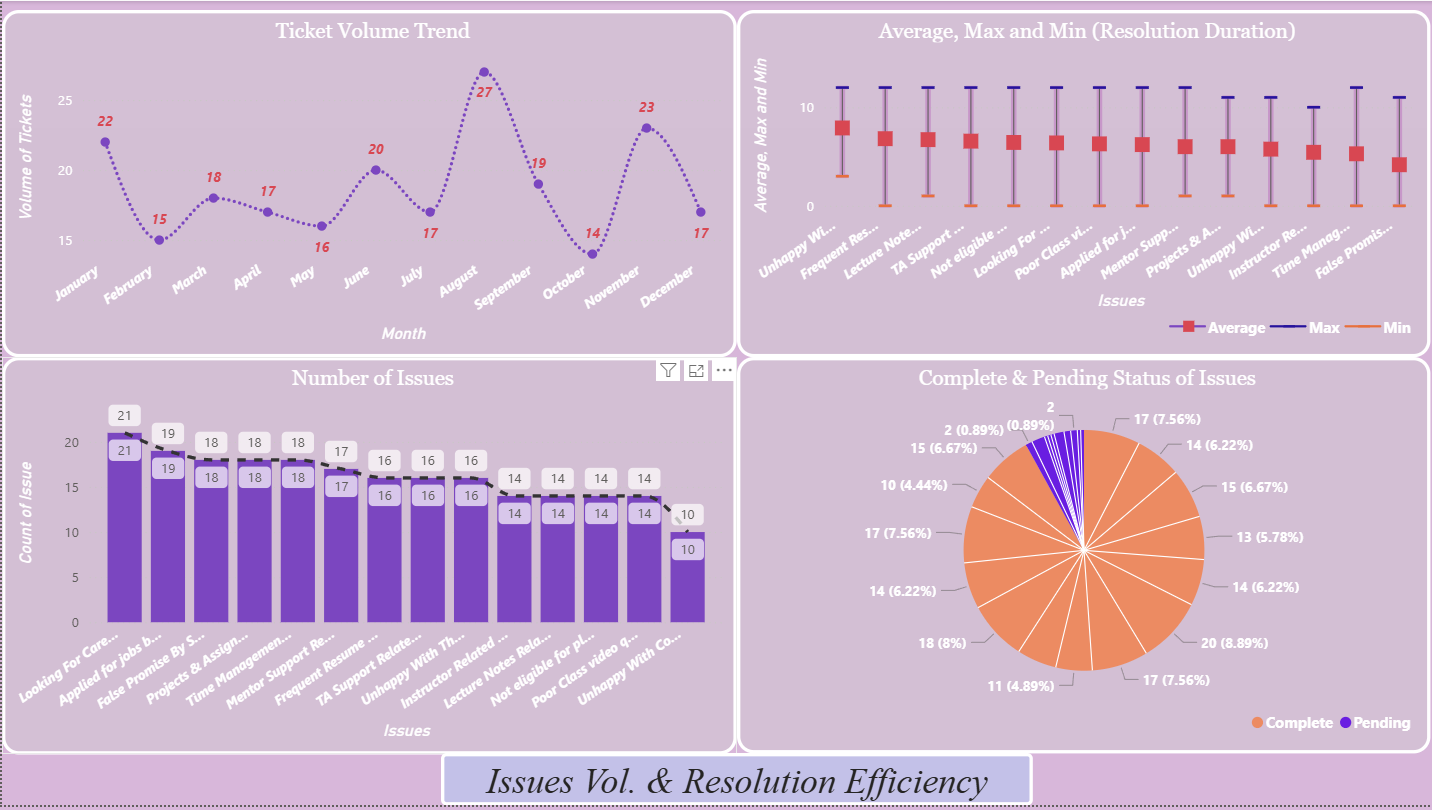

The dashboard page shown, as its layout file describes it:
{"tool":"powerbi","page":{"name":"Issue_Vol_Resolution_Efficiency","canvas":[1280,720],"ordinal":1},"visuals":[{"type":"lineChart","title":"Ticket Volume Trend","fields":{"Y":["CountNonNull(Sheet1.Ticket All Remarks)"],"Category":["Sheet1.Created Date.Variation.Date Hierarchy.Year","Sheet1.Created Date.Variation.Date Hierarchy.Quarter","Sheet1.Created Date.Variation.Date Hierarchy.Month"]},"box":[0,8.1,658.2,310.7],"z":0},{"type":"lineStackedColumnComboChart","title":"Number of Issues","fields":{"Category":["Sheet1.Issue 2 - NPS"],"Y":["CountNonNull(Sheet1.Issue 2 - NPS)"],"Y2":["CountNonNull(Sheet1.Issue 2 - NPS)"]},"box":[0,318.8,658.2,355.5],"z":1000},{"type":"lineClusteredColumnComboChart","title":"Average, Max and Min (Resolution Duration)","fields":{"Category":["Sheet1.Issue 2 - NPS"],"Y2":["Avg(Sheet1.Duration)","Max(Sheet1.Duration)1","Min(Sheet1.Duration)2"]},"box":[658.2,8.1,621.5,310.7],"z":2000},{"type":"pieChart","title":"Complete & Pending Status of Issues","fields":{"Category":["Sheet1.Status"],"Y":["CountNonNull(Sheet1.Issue 2 - NPS)"],"Series":["Sheet1.Issue 2 - NPS"]},"box":[658.2,318.8,621.5,354.6],"z":3000},{"type":"textbox","box":[393.1,673.4,530.1,46.6],"z":4000}]}

Visuals, with their boxes in screenshot pixels (x1, y1, x2, y2), scaled from the page's 1280x720 canvas onto the 1432x810 screenshot:
"Ticket Volume Trend" lineChart: bbox=(0, 9, 736, 359)
"Number of Issues" lineStackedColumnComboChart: bbox=(0, 359, 736, 759)
"Average, Max and Min (Resolution Duration)" lineClusteredColumnComboChart: bbox=(736, 9, 1431, 359)
"Complete & Pending Status of Issues" pieChart: bbox=(736, 359, 1431, 758)
textbox: bbox=(440, 758, 1033, 809)
